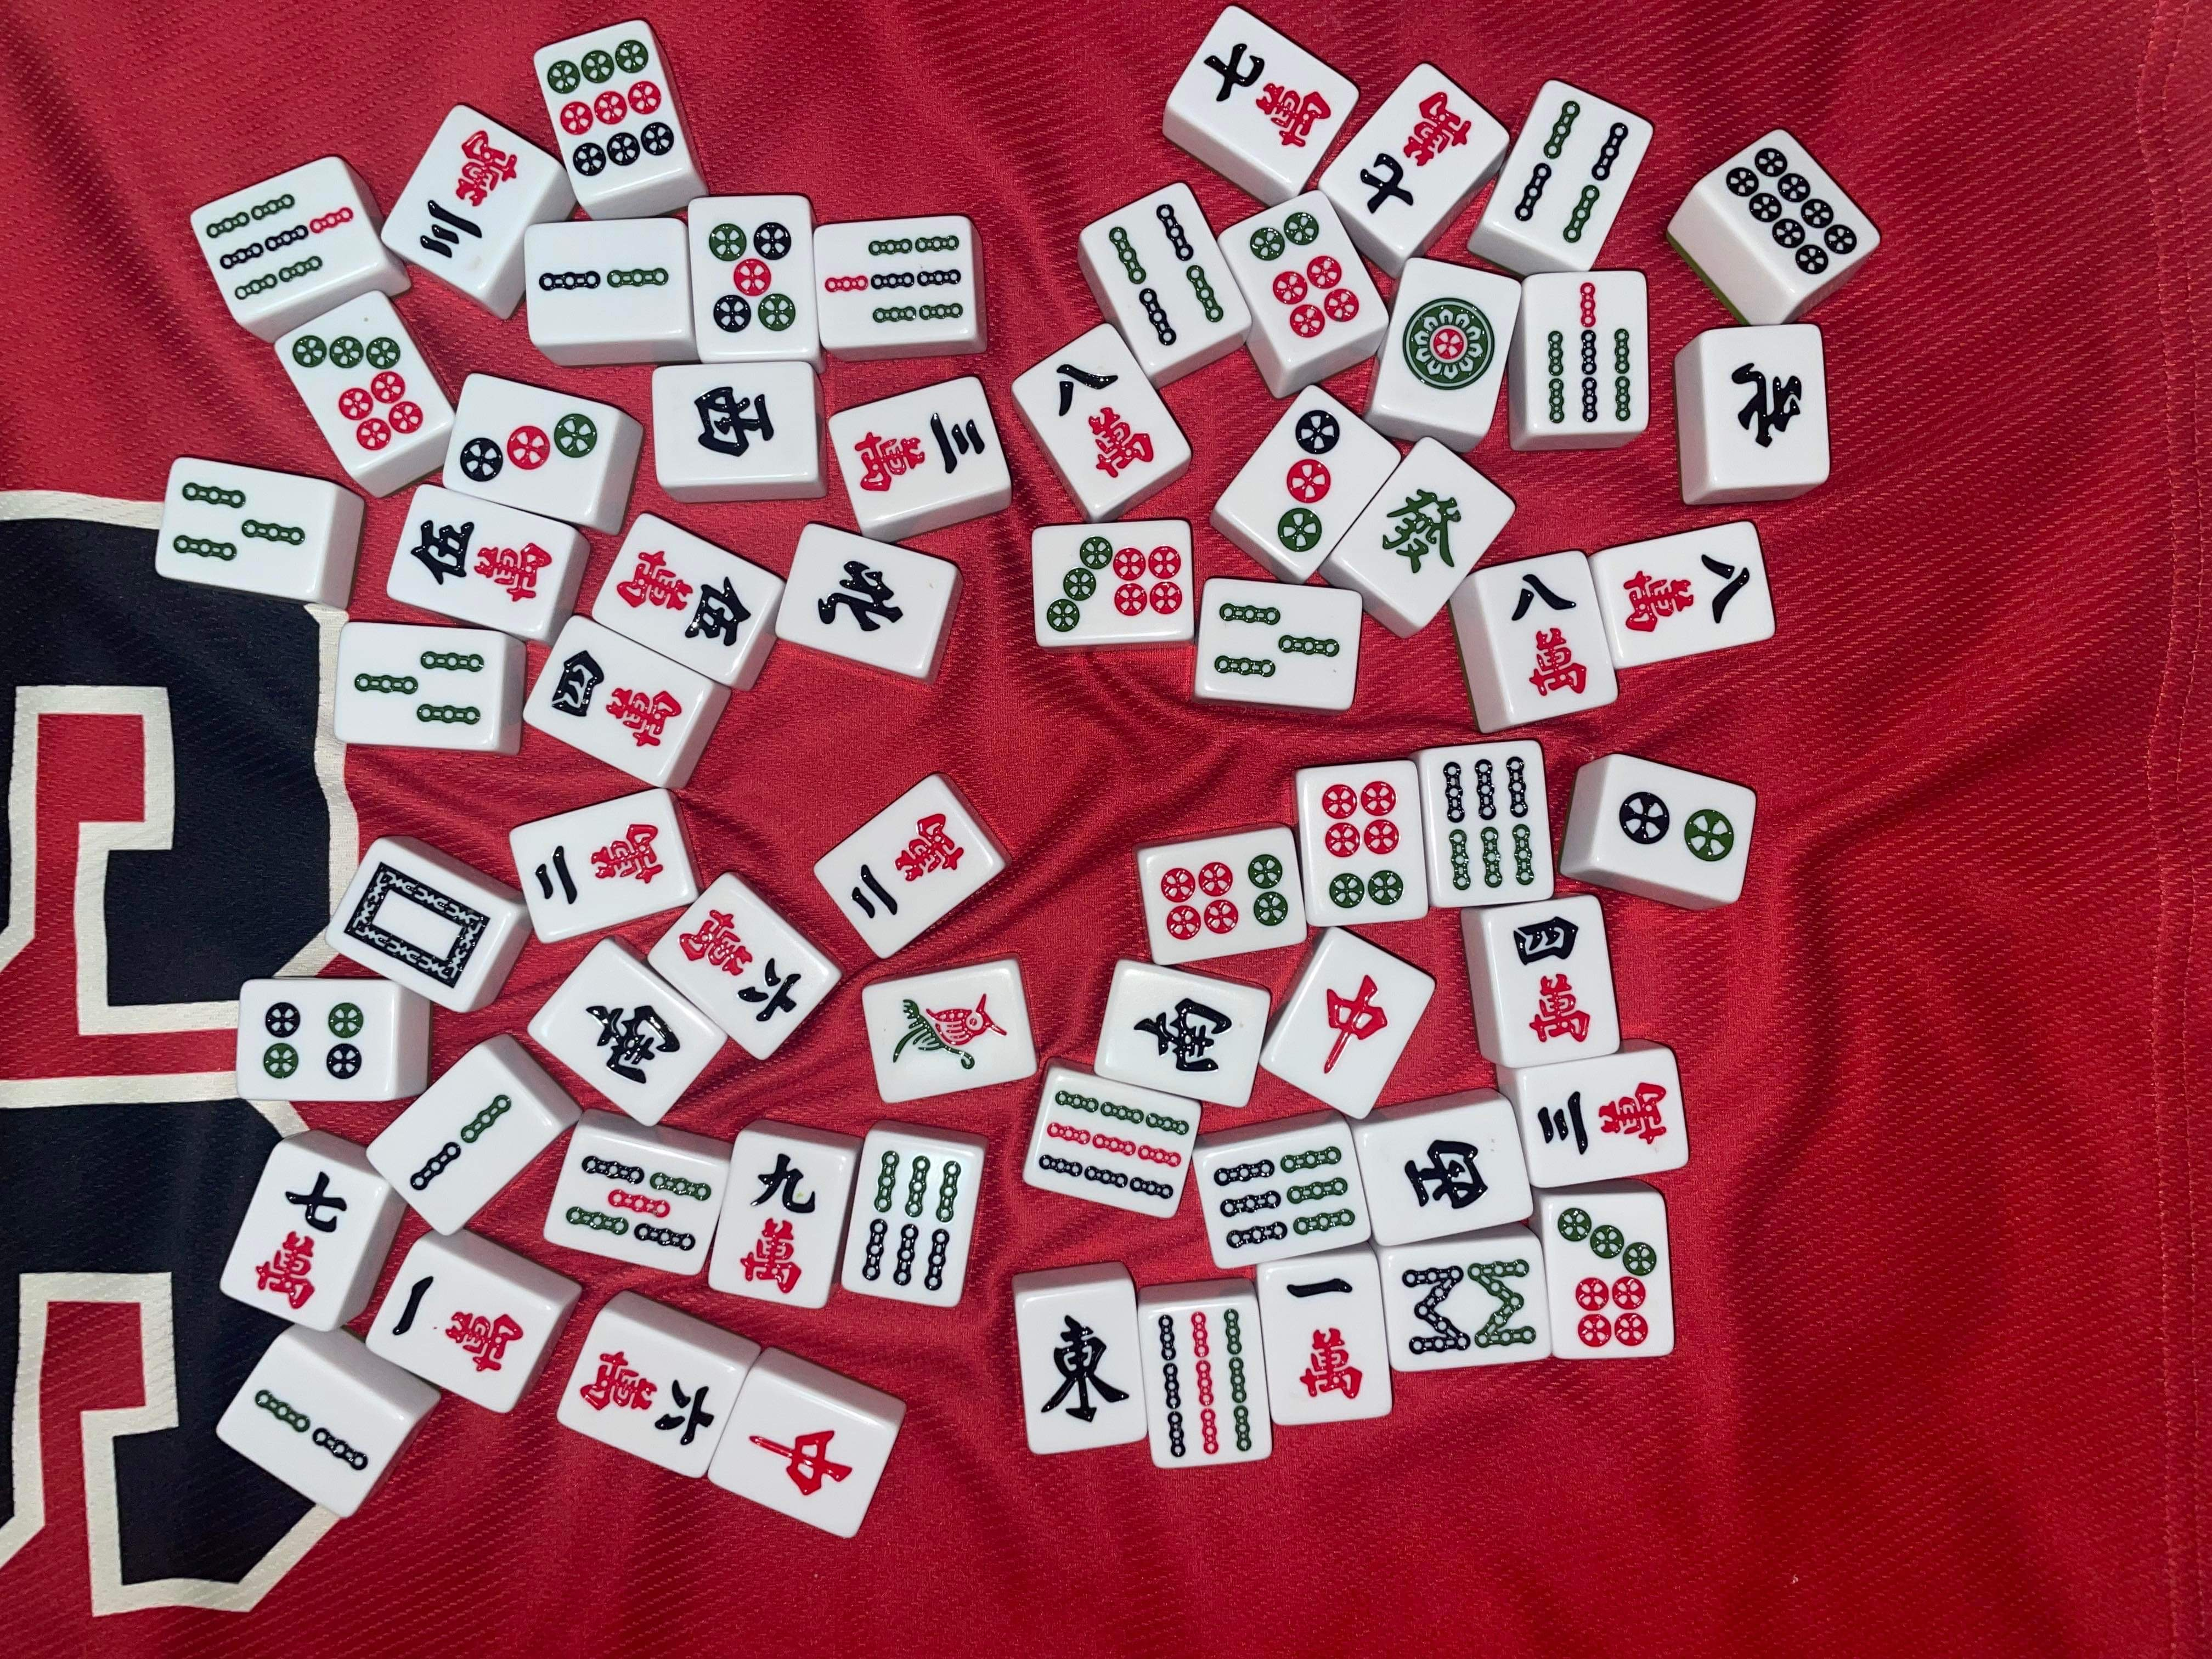b-1: (887, 991, 1013, 1073)
b-2: (247, 1384, 374, 1474), (408, 1092, 515, 1195), (540, 263, 670, 295)
b-3: (347, 643, 486, 733), (172, 480, 311, 570), (1212, 600, 1346, 685)
b-4: (1510, 98, 1630, 253), (1102, 202, 1229, 348)
b-5: (563, 1152, 716, 1254)
b-6: (1209, 1145, 1363, 1249), (861, 1147, 964, 1293), (1441, 753, 1539, 891)
b-7: (202, 193, 359, 304), (1544, 280, 1636, 426), (824, 236, 966, 325)
b-8: (1399, 1256, 1537, 1357)
b-9: (1037, 1086, 1191, 1201), (1155, 1308, 1256, 1459)
c-1: (389, 1273, 526, 1374), (1280, 1273, 1368, 1406)
c-2: (849, 811, 966, 925), (532, 822, 666, 907)
c-3: (414, 129, 522, 262), (850, 411, 989, 498), (1535, 1079, 1671, 1160)
c-4: (546, 647, 686, 753), (1510, 912, 1594, 1044)
c-5: (612, 548, 752, 648), (408, 516, 556, 606)
c-6: (676, 907, 805, 1028), (578, 1348, 716, 1451)
c-7: (1356, 88, 1476, 216), (1199, 40, 1334, 148), (251, 1167, 350, 1312)
c-8: (1048, 360, 1155, 477), (1619, 550, 1753, 639), (1508, 569, 1594, 702)
c-9: (737, 1152, 820, 1296)
d-1: (1399, 295, 1498, 392)
d-2: (1612, 788, 1739, 861)
d-3: (457, 409, 603, 486), (1275, 407, 1344, 552)
d-4: (260, 1000, 363, 1081)
d-5: (705, 219, 800, 335)
d-6: (1248, 210, 1361, 339), (1159, 853, 1289, 942), (1322, 779, 1404, 910)
d-7: (286, 331, 425, 455), (1556, 1203, 1660, 1351), (1043, 533, 1186, 635)
d-8: (1723, 146, 1859, 276)
d-9: (546, 38, 677, 178)
honors-east: (1039, 1313, 1132, 1425)
honors-green: (1374, 486, 1464, 577)
honors-north: (1727, 352, 1809, 450), (815, 557, 907, 641)
honors-red: (1309, 973, 1392, 1078), (745, 1418, 854, 1498)
honors-south: (1133, 995, 1236, 1080), (582, 1001, 683, 1086)
honors-west: (1403, 1137, 1497, 1211), (690, 382, 775, 460)
honors-white: (341, 859, 493, 992)
